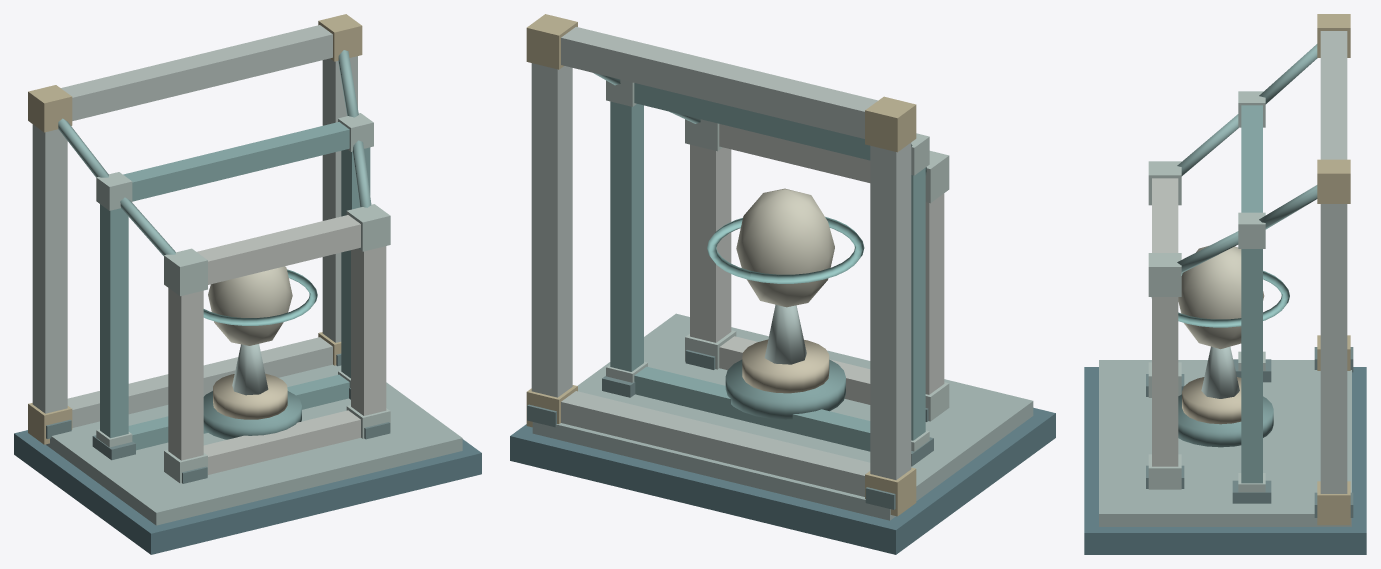
Rendered from ART-47.glb.
3 renders of one model, left to right at view 1: azimuth 30°, elevation 25°; view 2: azimuth 150°, elevation 25°; view 3: azimuth 270°, elevation 25°, orthographic. The views are drawn at different scales.
Parts seen in each view (by area): view 1: world; view 2: world; view 3: world.
Part boxes in pixels (x1,y1,x2,y2): world: (14,14,481,554); world: (510,14,1055,554); world: (1084,14,1366,554).
Size of the model in its own units: 1.89 by 2 by 1.35.
